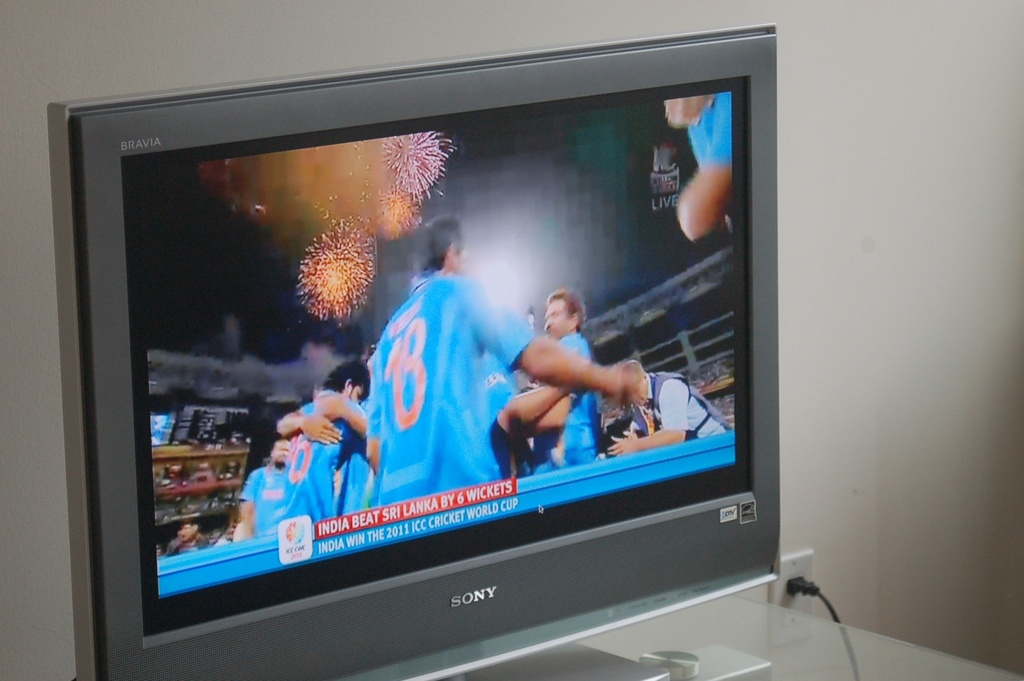Person: (165, 216, 730, 556), (661, 93, 734, 240)
